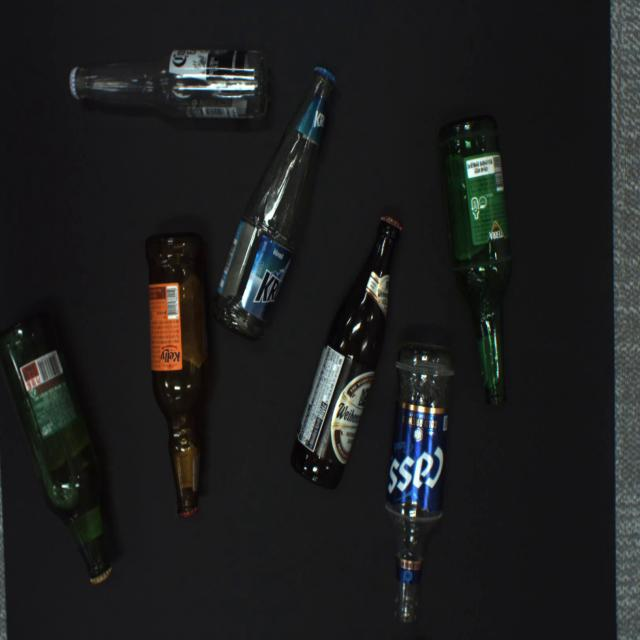beer-bottle: (212, 66, 336, 341), (290, 215, 403, 489), (0, 311, 113, 583), (437, 115, 513, 406), (385, 341, 455, 625), (145, 233, 211, 519), (69, 50, 270, 119)
